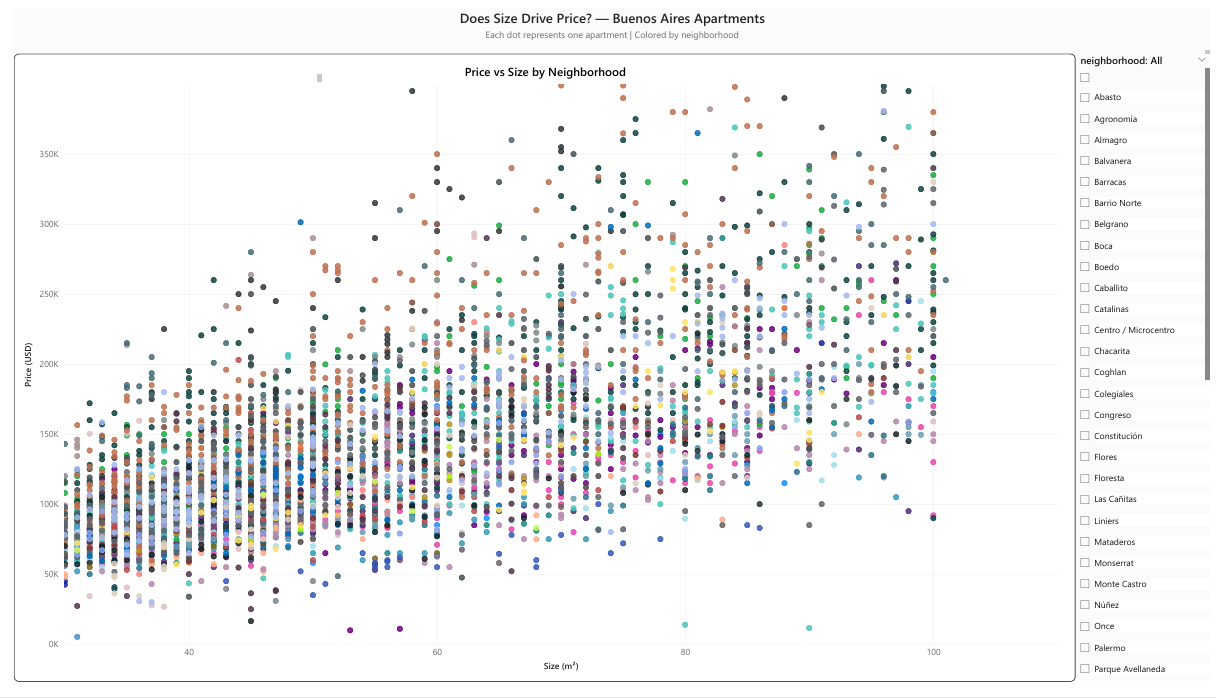

What the dashboard file says about the page in this screenshot:
{"tool":"powerbi","page":{"name":"Page 3","canvas":[1920,1080],"ordinal":2},"visuals":[{"type":"scatterChart","title":"Price vs Size by Neighborhood","fields":{"Series":["apartment_prices__cleaned.neighborhood"],"X":["apartment_prices__cleaned.surface_covered_in_m2"],"Y":["apartment_prices__cleaned.price_aprox_usd"]},"box":[0,71.6,1703.5,1009.2],"z":0},{"type":"slicer","fields":{"Values":["apartment_prices__cleaned.neighborhood"]},"box":[1703.5,71.6,217.1,1009.2],"z":1000},{"type":"textbox","box":[0,104.6,495.4,12.3],"z":2000},{"type":"textbox","title":"Does Size Drive Price? — Buenos Aires Apartments","box":[0,0,1920.7,71.6],"z":4000}]}

Visuals, with their boxes in screenshot pixels (x1, y1, x2, y2), scaled from the page's 1920x1080 canvas onto the 1216x698 screenshot:
"Price vs Size by Neighborhood" scatterChart: <region>0, 46, 1079, 697</region>
slicer - apartment_prices__cleaned.neighborhood: <region>1079, 46, 1215, 697</region>
textbox: <region>0, 68, 314, 76</region>
"Does Size Drive Price? — Buenos Aires Apartments" textbox: <region>0, 0, 1215, 46</region>
